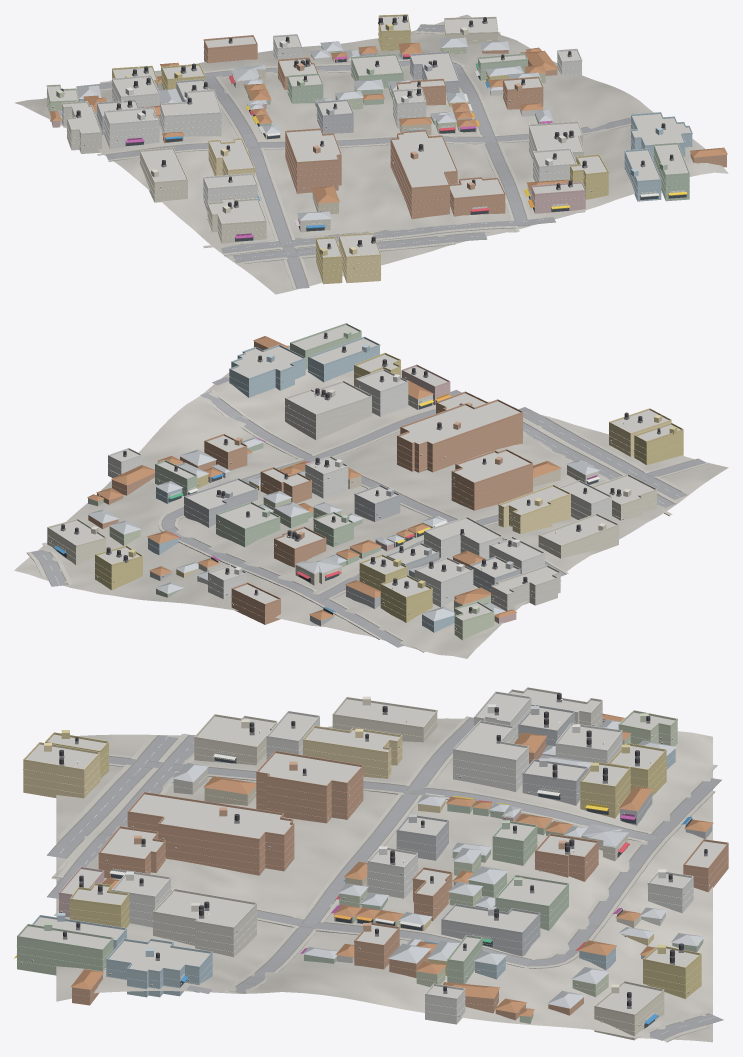
3 views of the same model, one above another, from view 1: azimuth 30°, elevation 25°; view 2: azimuth 150°, elevation 25°; view 3: azimuth 270°, elevation 25° (orthographic). The views are drawn at different scales.
Visible parts, largest first — view 1: Buildings-col, Terrain-col, Details, Roads-col, Sidewalks-col; view 2: Buildings-col, Terrain-col, Details, Roads-col, Sidewalks-col; view 3: Buildings-col, Terrain-col, Details, Roads-col, Sidewalks-col.
Part boxes in pixels (x1,y1,x2,y2): Buildings-col: (47, 16, 727, 284); Terrain-col: (14, 14, 728, 294); Details: (46, 14, 726, 277); Roads-col: (78, 24, 654, 288); Sidewalks-col: (97, 23, 630, 288); Buildings-col: (47, 325, 683, 640); Terrain-col: (14, 345, 728, 658); Details: (47, 323, 683, 634); Roads-col: (31, 377, 705, 647); Sidewalks-col: (26, 390, 708, 652); Buildings-col: (17, 689, 728, 1040); Terrain-col: (56, 718, 712, 1042); Details: (14, 687, 728, 1032); Roads-col: (47, 717, 723, 1040); Sidewalks-col: (51, 716, 717, 1042).
Bounding box in the file's own units: 271 × 38.41 × 279.
